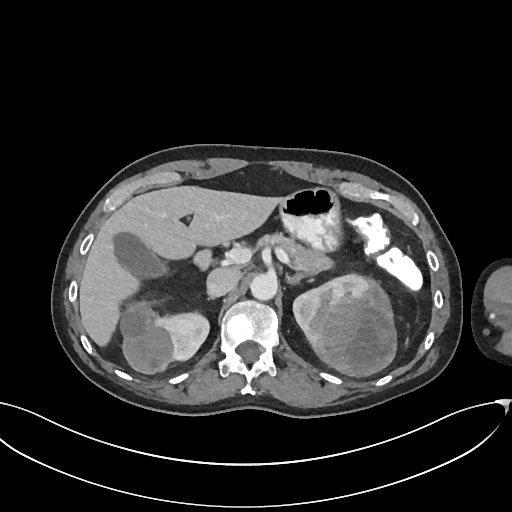Lesion: (120, 304, 176, 377)
